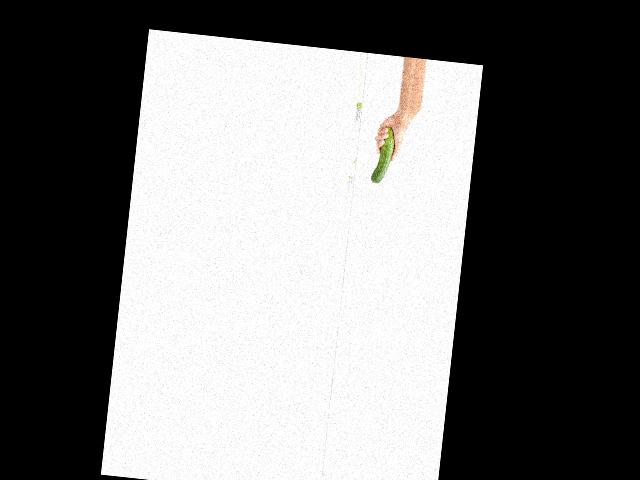cucumber: (370, 126, 395, 185)
